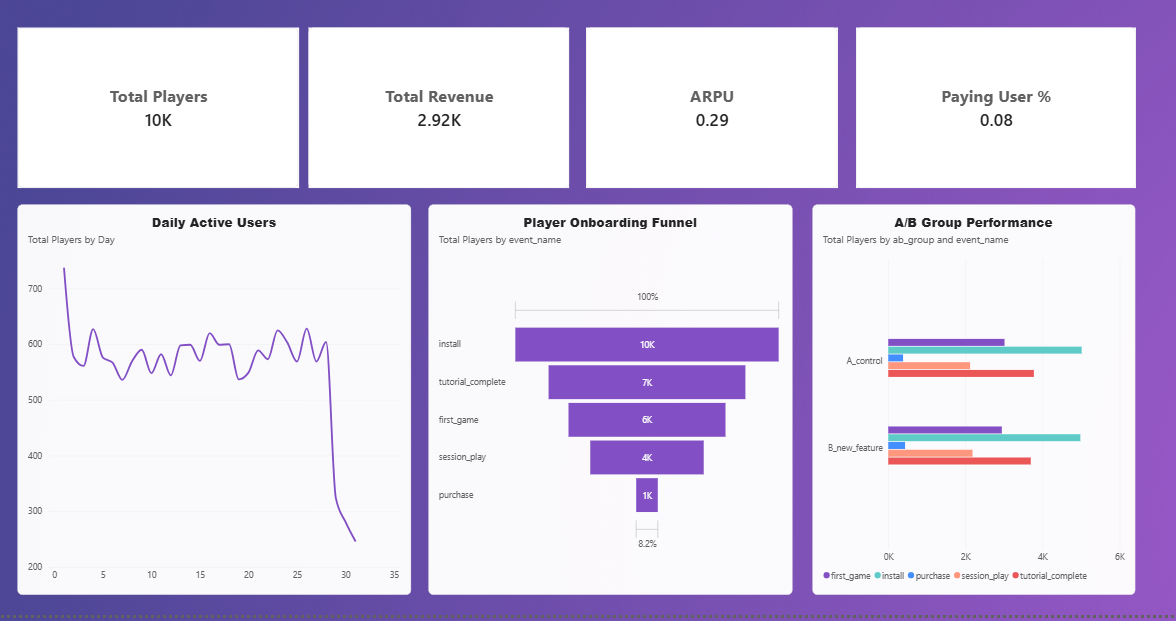

Layout of this report page (visuals, bound fields, positions):
{"tool":"powerbi","page":{"name":"Page 1","canvas":[1920,1080],"ordinal":0},"visuals":[{"type":"cardVisual","fields":{"Data":["game_events.Total Players"]},"box":[40.6,128.8,455.7,260.1],"z":0},{"type":"cardVisual","fields":{"Data":["game_events.Total Revenue"]},"box":[513,128.8,422.3,260.1],"z":1000},{"type":"cardVisual","fields":{"Data":["game_events.ARPU"]},"box":[961.5,128.8,408,260.1],"z":2000},{"type":"cardVisual","fields":{"Data":["game_events.Paying User %"]},"box":[1398.1,128.8,453.3,260.1],"z":3000},{"type":"lineChart","title":"Daily Active Users","fields":{"Category":["game_events.event_timestamp.Variation.Date Hierarchy.Day"],"Y":["game_events.Total Players"]},"box":[40.6,415.1,637,632.3],"z":4000},{"type":"funnel","title":"Player Onboarding Funnel","fields":{"Category":["game_events.event_name"],"Y":["game_events.Total Players"]},"box":[706.2,415.1,589.3,632.3],"z":4001},{"type":"clusteredBarChart","title":"A/B Group Performance","fields":{"Category":["game_events.ab_group"],"Series":["game_events.event_name"],"Y":["game_events.Total Players"]},"box":[1329,415.1,522.5,632.3],"z":4002}]}

Visuals, with their boxes in screenshot pixels (x1, y1, x2, y2):
cardVisual - game_events.Total Players: [22, 45, 300, 204]
cardVisual - game_events.Total Revenue: [310, 45, 568, 204]
cardVisual - game_events.ARPU: [584, 45, 833, 204]
cardVisual - game_events.Paying User %: [850, 45, 1127, 204]
"Daily Active Users" lineChart: [22, 220, 410, 605]
"Player Onboarding Funnel" funnel: [428, 220, 787, 605]
"A/B Group Performance" clusteredBarChart: [808, 220, 1127, 605]
